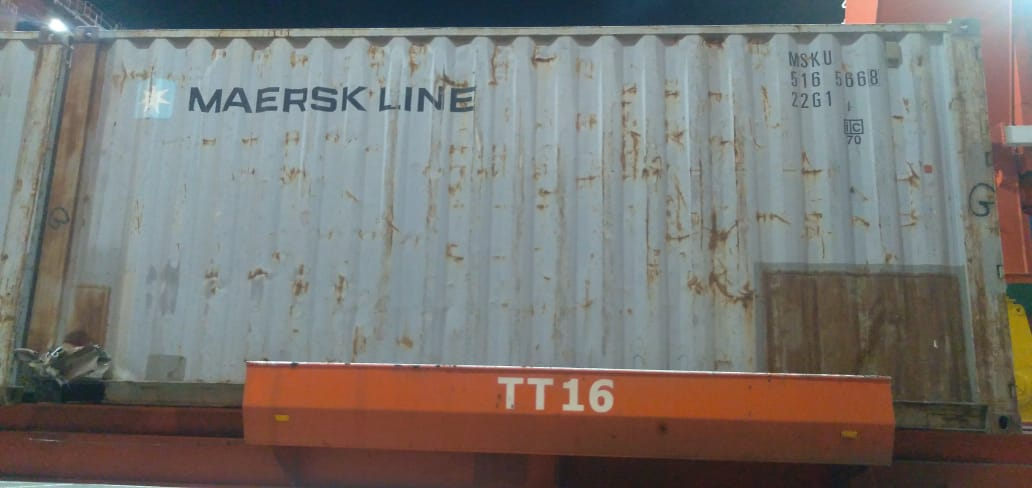moderate: (2, 323, 116, 401)
